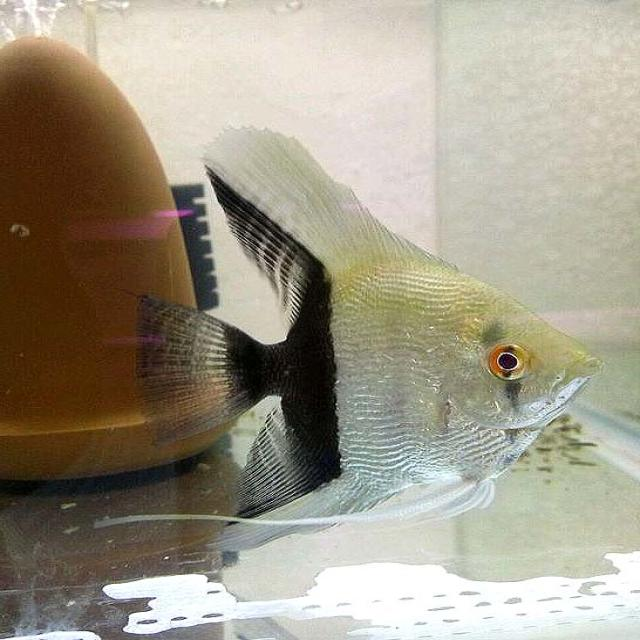AngelFish: (135, 130, 594, 528)
